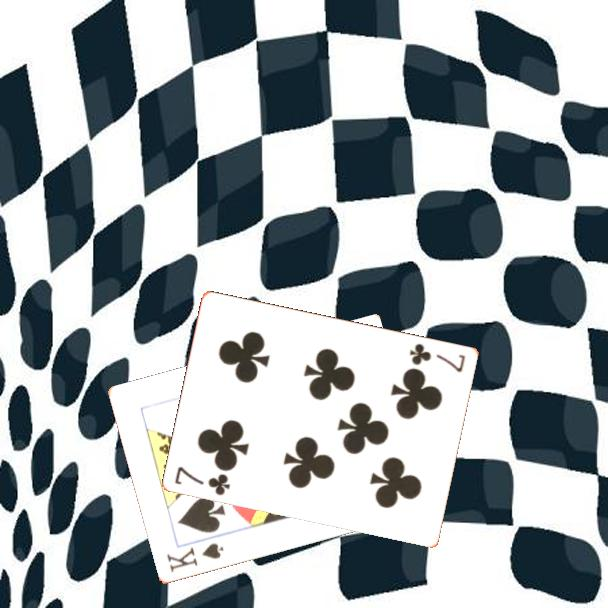c07: (406, 340, 468, 375), (171, 463, 233, 498)
s13: (163, 540, 226, 575)
